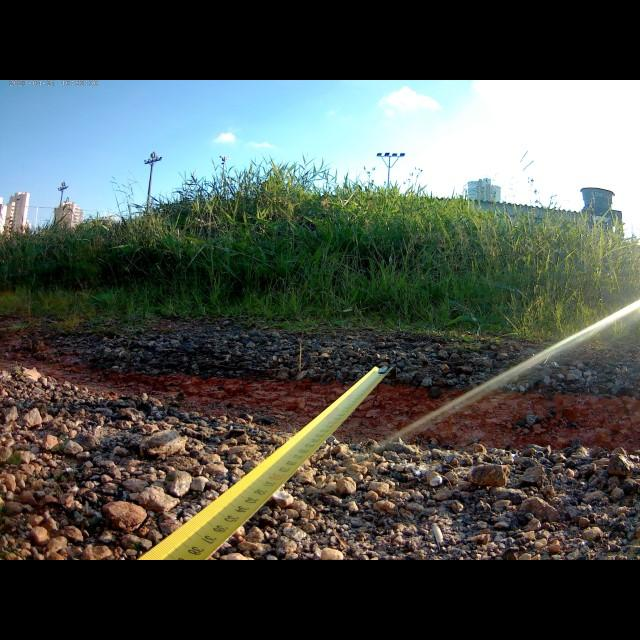ravina: (1, 349, 639, 460)
